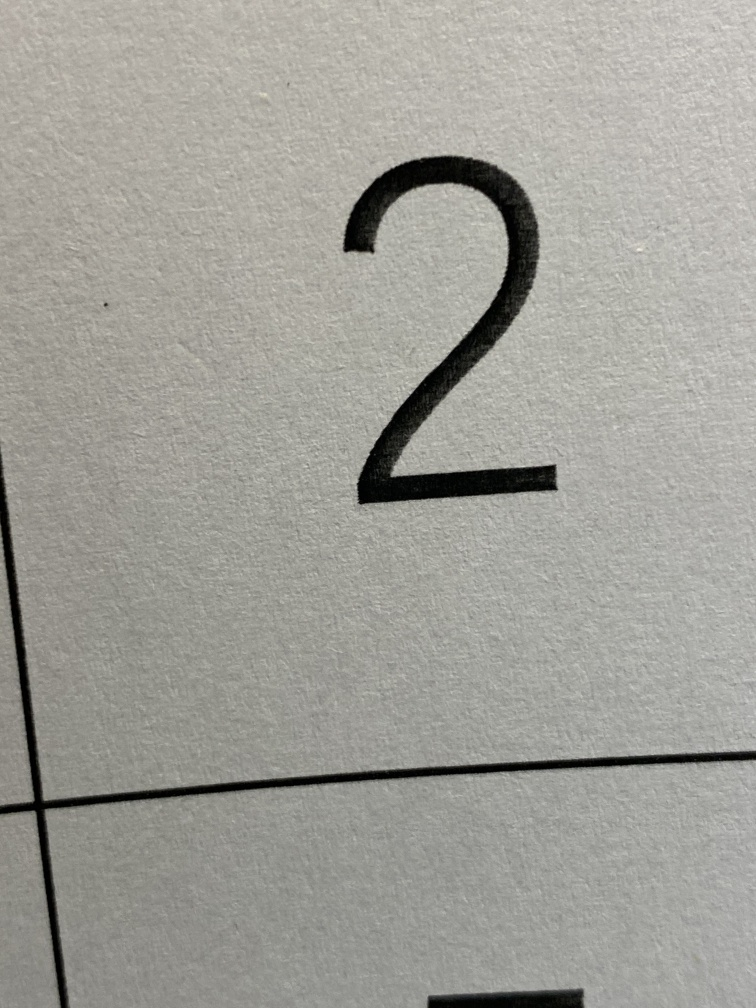two: (270, 87, 625, 579)
